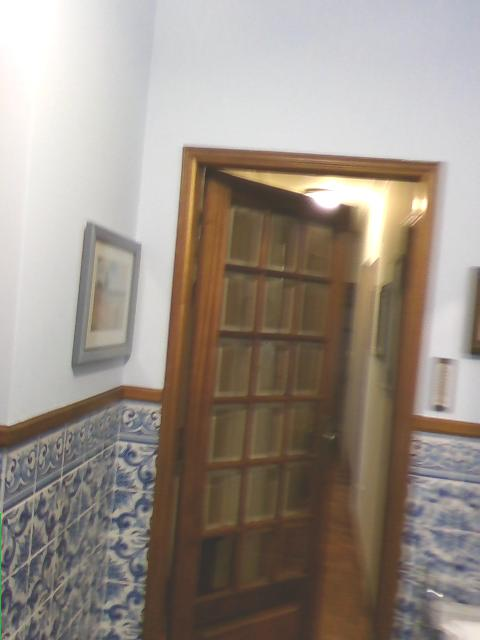semi_door: (137, 142, 446, 639)
